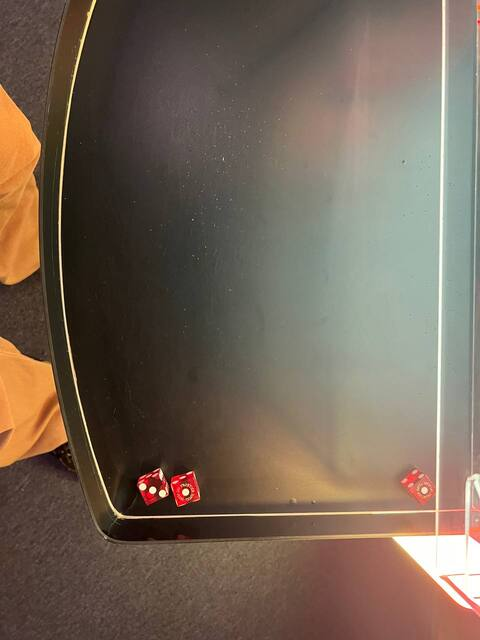one: (170, 480, 205, 510), (410, 477, 440, 504)
three: (133, 475, 170, 508)
